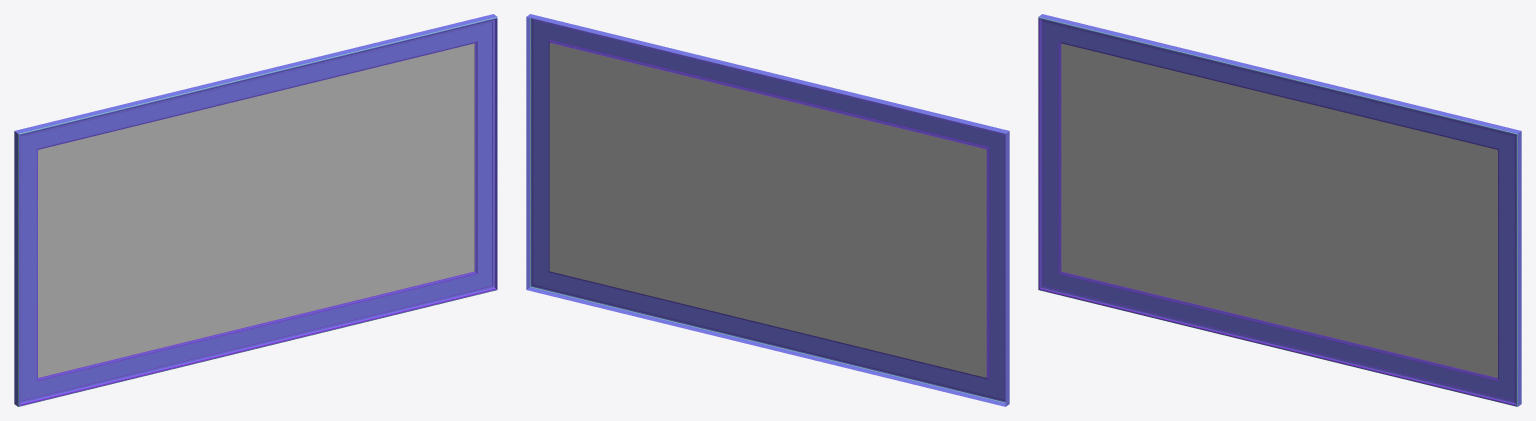
The picture shows the model from 3 angles, left to right: view 1: azimuth 30°, elevation 25°; view 2: azimuth 150°, elevation 25°; view 3: azimuth 330°, elevation 25°; orthographic projection.
Parts seen in each view (by area): view 1: _14_10, _14_10_frame; view 2: _14_10, _14_10_frame; view 3: _14_10, _14_10_frame.
Part boxes in pixels (x1,y1,x2,y2): _14_10: (38, 43, 474, 377); _14_10_frame: (14, 14, 497, 406); _14_10: (549, 43, 986, 377); _14_10_frame: (526, 14, 1009, 406); _14_10: (1061, 43, 1497, 377); _14_10_frame: (1038, 14, 1521, 406).
Bounding box in the file's own units: 384 × 209 × 5.87.
